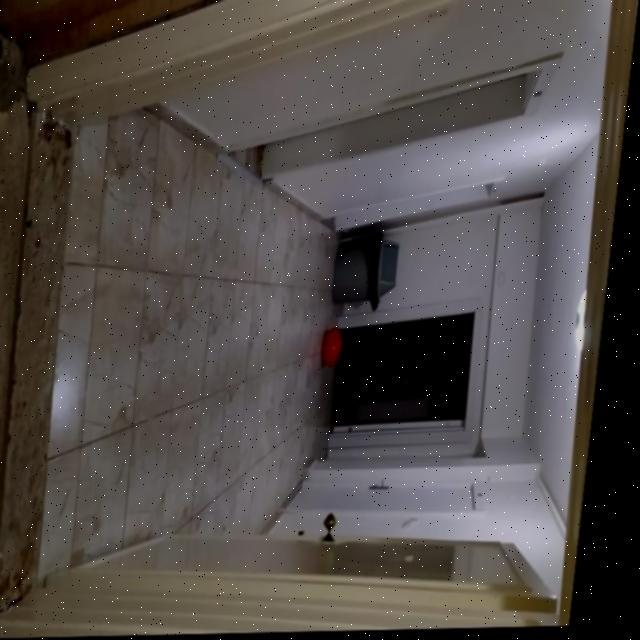balloon: (329, 321, 355, 374)
